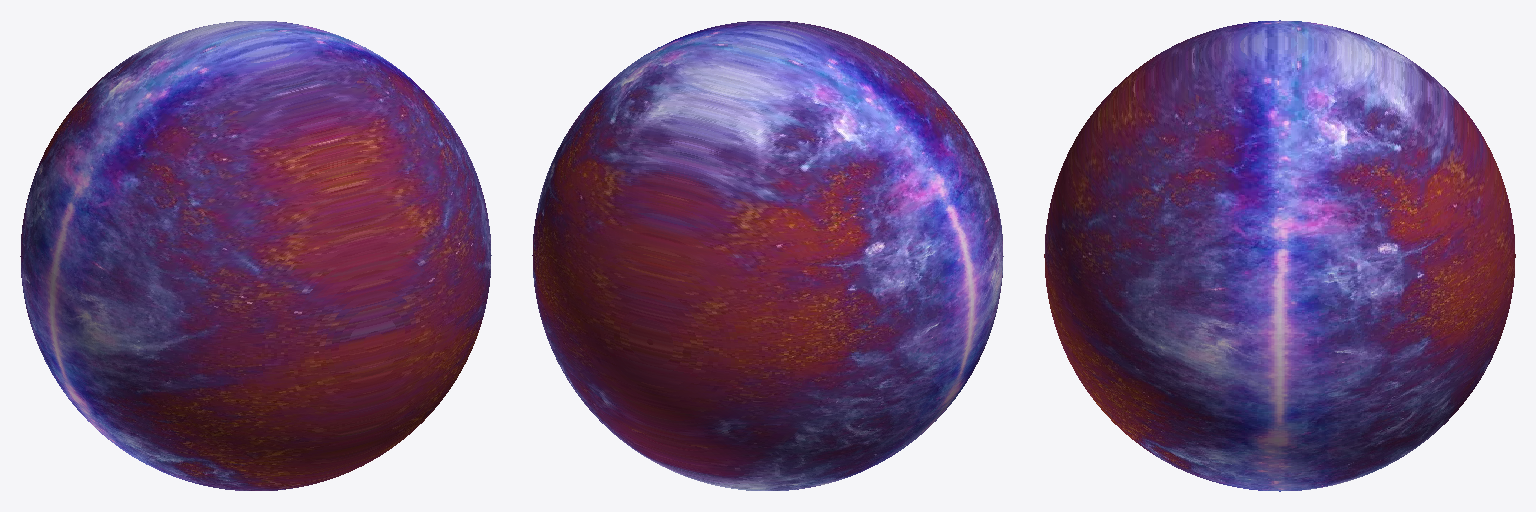
3 views of the same model, side by side, from view 1: azimuth 30°, elevation 25°; view 2: azimuth 150°, elevation 25°; view 3: azimuth 270°, elevation 25° (orthographic).
Parts seen in each view (by area): view 1: Sphere_Sphere.001; view 2: Sphere_Sphere.001; view 3: Sphere_Sphere.001.
Boxes of the visible parts, box(x1,y1,x2,y2) form: Sphere_Sphere.001: box(20, 21, 491, 490); Sphere_Sphere.001: box(532, 21, 1003, 490); Sphere_Sphere.001: box(1044, 20, 1515, 491).
Bounding box in the file's own units: 2 × 2 × 2.
Materials: 1 (1 with a texture image).